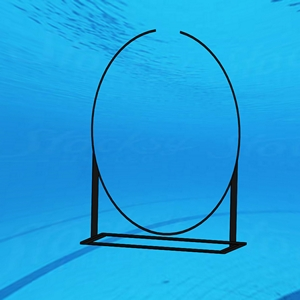circle: (79, 28, 250, 256)
